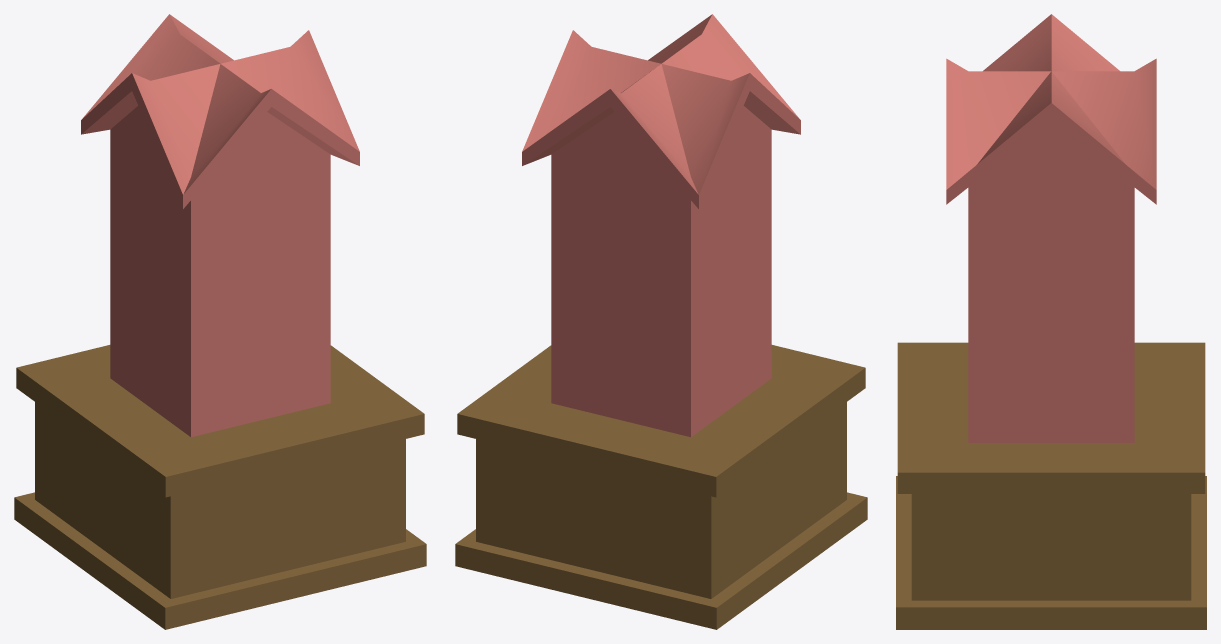
File: torre.fbx
3 views of the same model, side by side, from view 1: azimuth 30°, elevation 25°; view 2: azimuth 150°, elevation 25°; view 3: azimuth 270°, elevation 25° (orthographic). The views are drawn at different scales.
Parts seen in each view (by area): view 1: Plane; view 2: Plane; view 3: Plane.
Part boxes in pixels (x1,y1,x2,y2): Plane: (14,14,426,629); Plane: (455,14,867,629); Plane: (896,14,1206,629).
Bounding box in the file's own units: 400 × 718 × 400.
